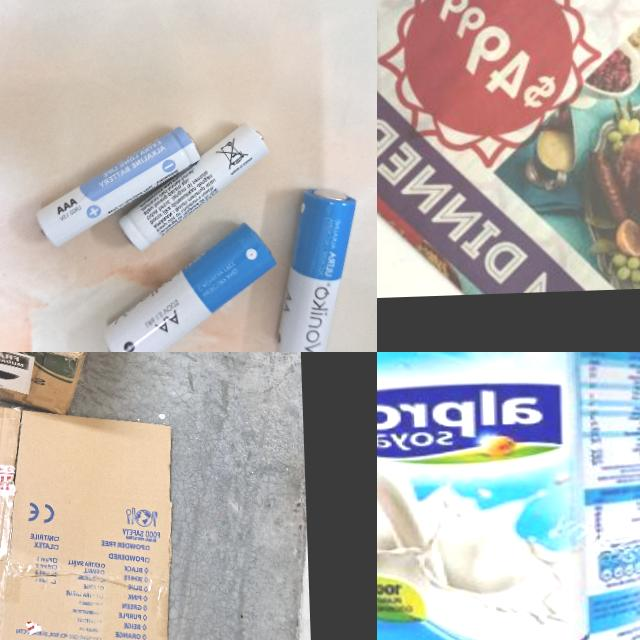bateria: (99, 220, 280, 352), (32, 125, 204, 247), (115, 120, 272, 253), (268, 185, 360, 352)
caixinha: (377, 352, 640, 640)
papel: (377, 0, 640, 299)
papelão: (0, 377, 182, 640)
